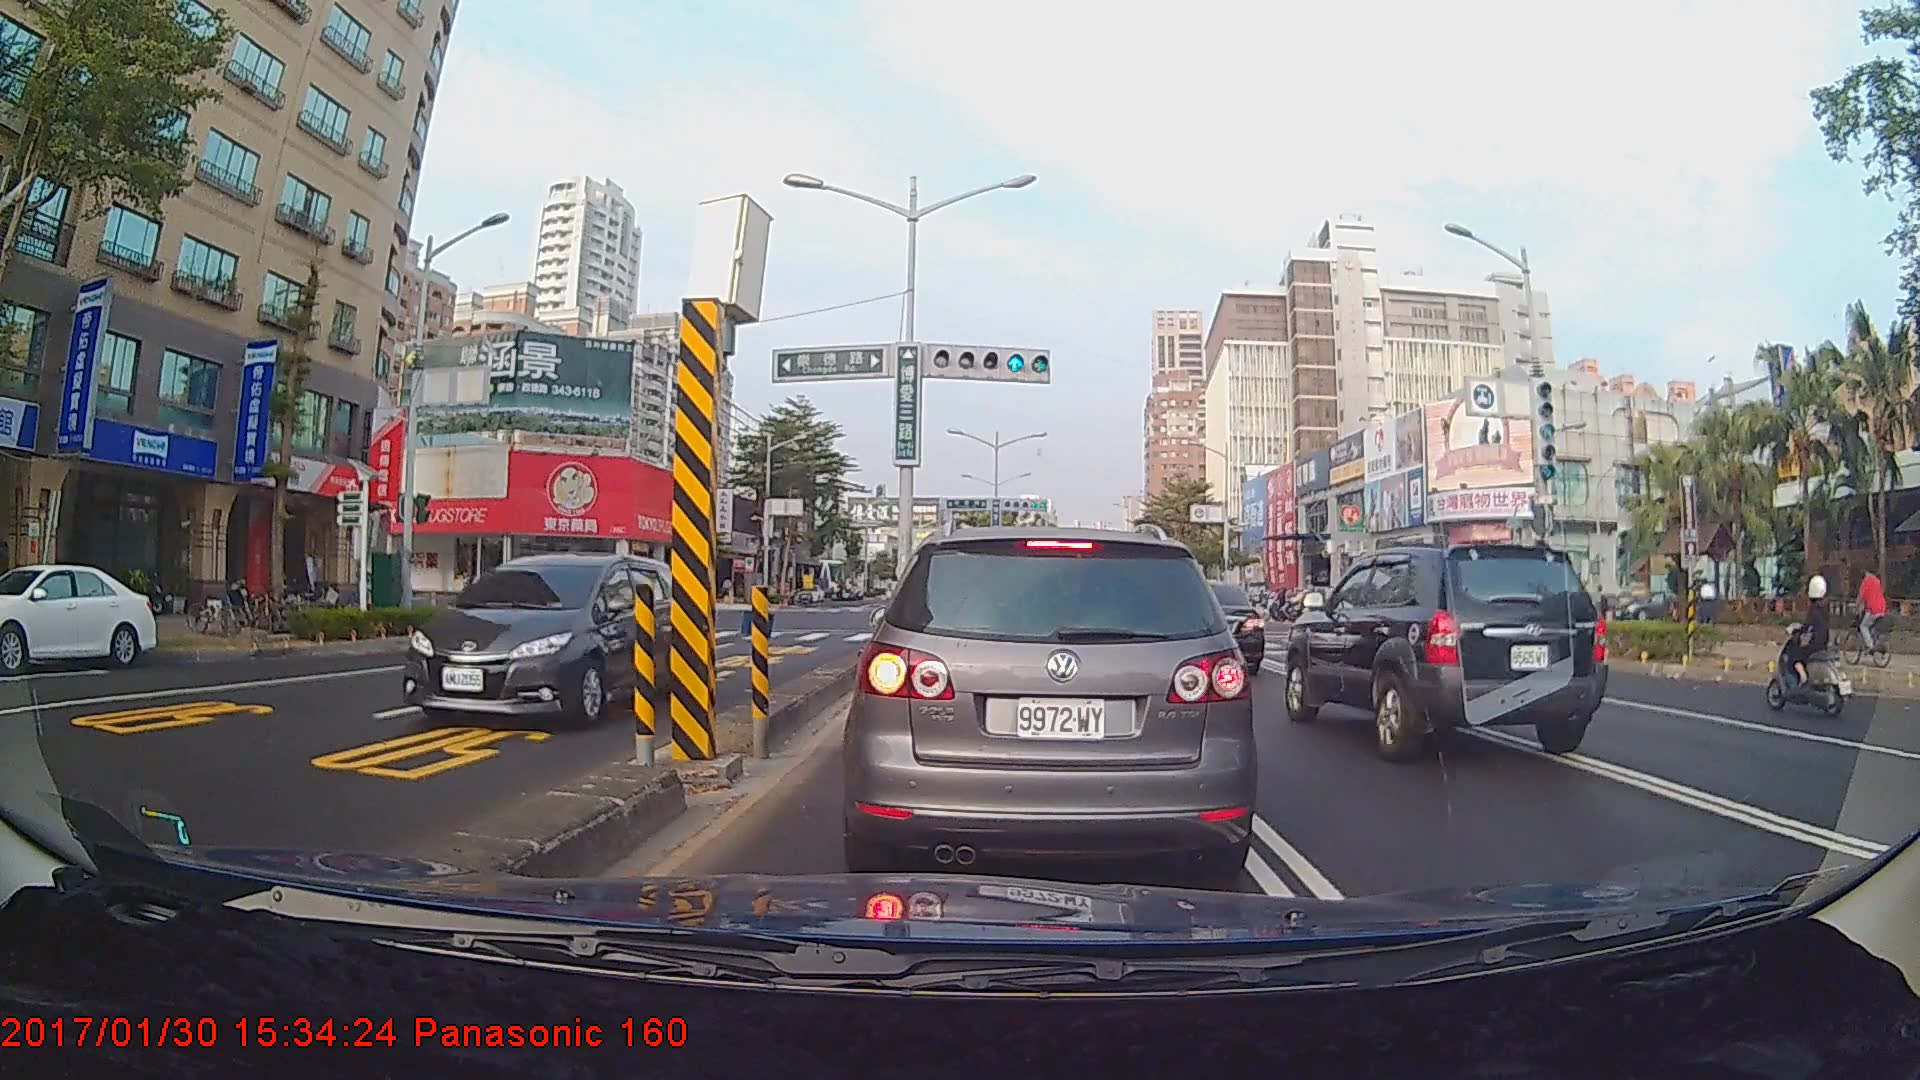pedestrian: (1591, 581, 1612, 640)
rider: (1763, 571, 1849, 720), (1838, 569, 1892, 663), (1676, 578, 1728, 654)
vehicle: (854, 521, 1250, 883), (1281, 540, 1614, 762), (398, 553, 694, 725), (0, 561, 155, 671), (1119, 576, 1265, 676)
